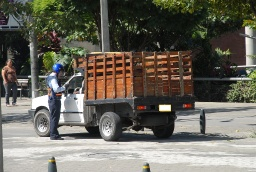person: (45, 62, 69, 141), (1, 57, 21, 108)
truck: (31, 50, 198, 140)
